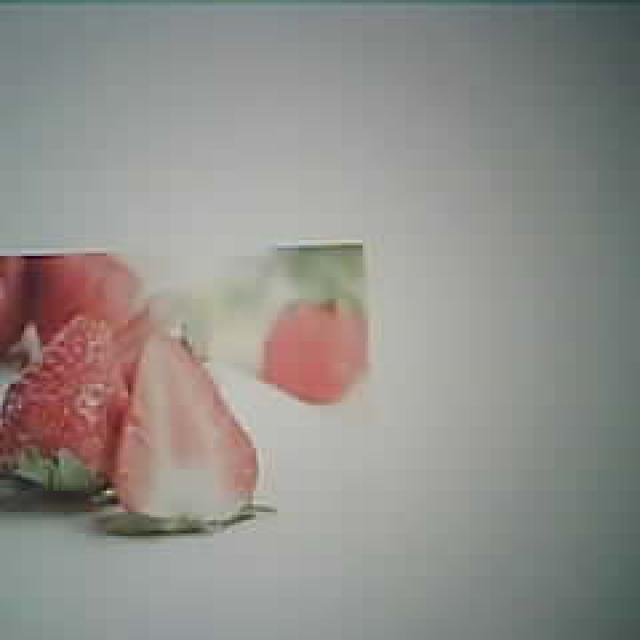ripe: (0, 313, 126, 483)
